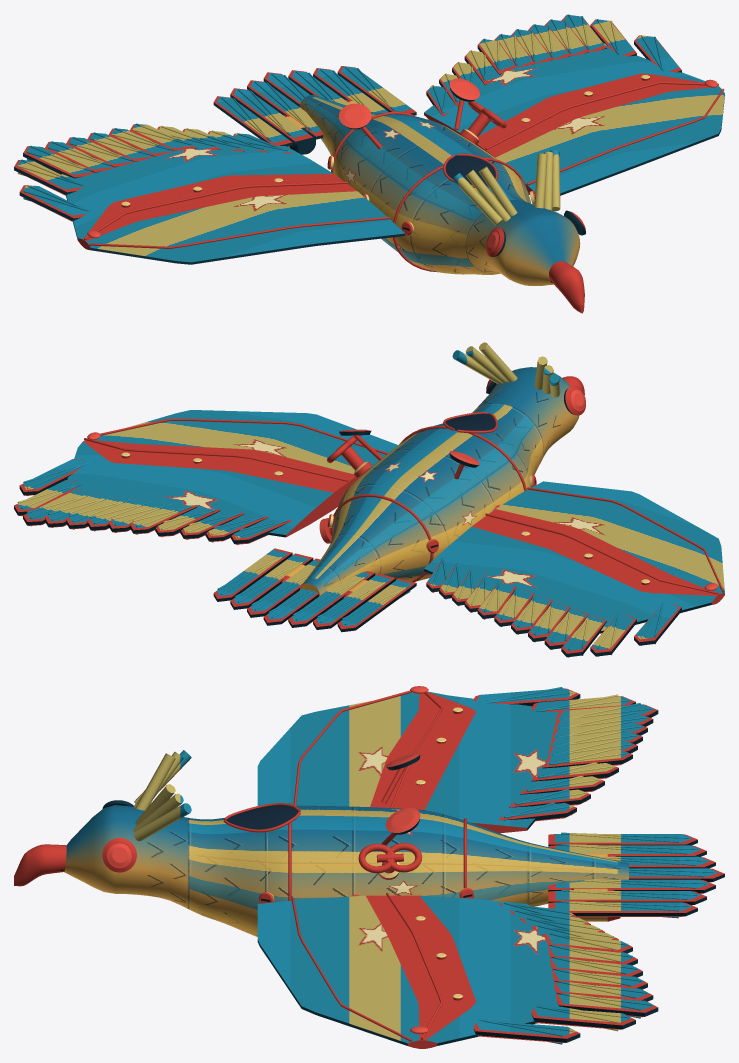
3 views of the same model, one above another, from view 1: azimuth 30°, elevation 25°; view 2: azimuth 150°, elevation 25°; view 3: azimuth 270°, elevation 25° (orthographic). The views are drawn at different scales.
Parts seen in each view (by area): view 1: harpy_eagle_hull; view 2: harpy_eagle_hull; view 3: harpy_eagle_hull.
Boxes of the visible parts, bbox=[...] form: harpy_eagle_hull: bbox=[14, 14, 724, 313]; harpy_eagle_hull: bbox=[14, 342, 724, 657]; harpy_eagle_hull: bbox=[14, 686, 724, 1048].
Size of the model in its own units: 82 by 18.38 by 70.37.
Materials: 1 (1 with a texture image).
